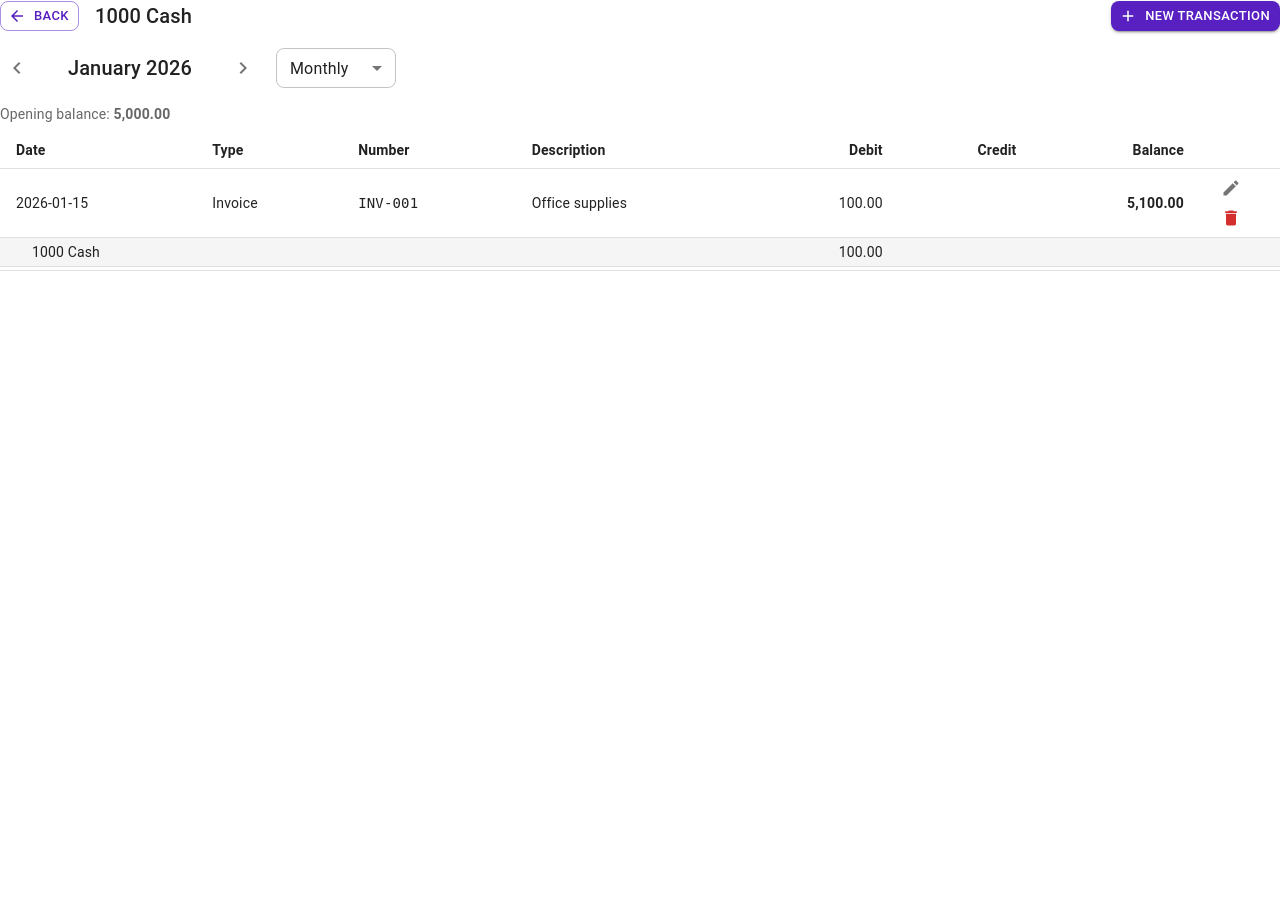
Scenario: TransactionView › shows delete confirmation dialog when row delete icon is clicked
Click the button with test id "delete-txn-txn-1". click: (1231,218)
box: top-left (1216, 203), bottom-right (1246, 233)
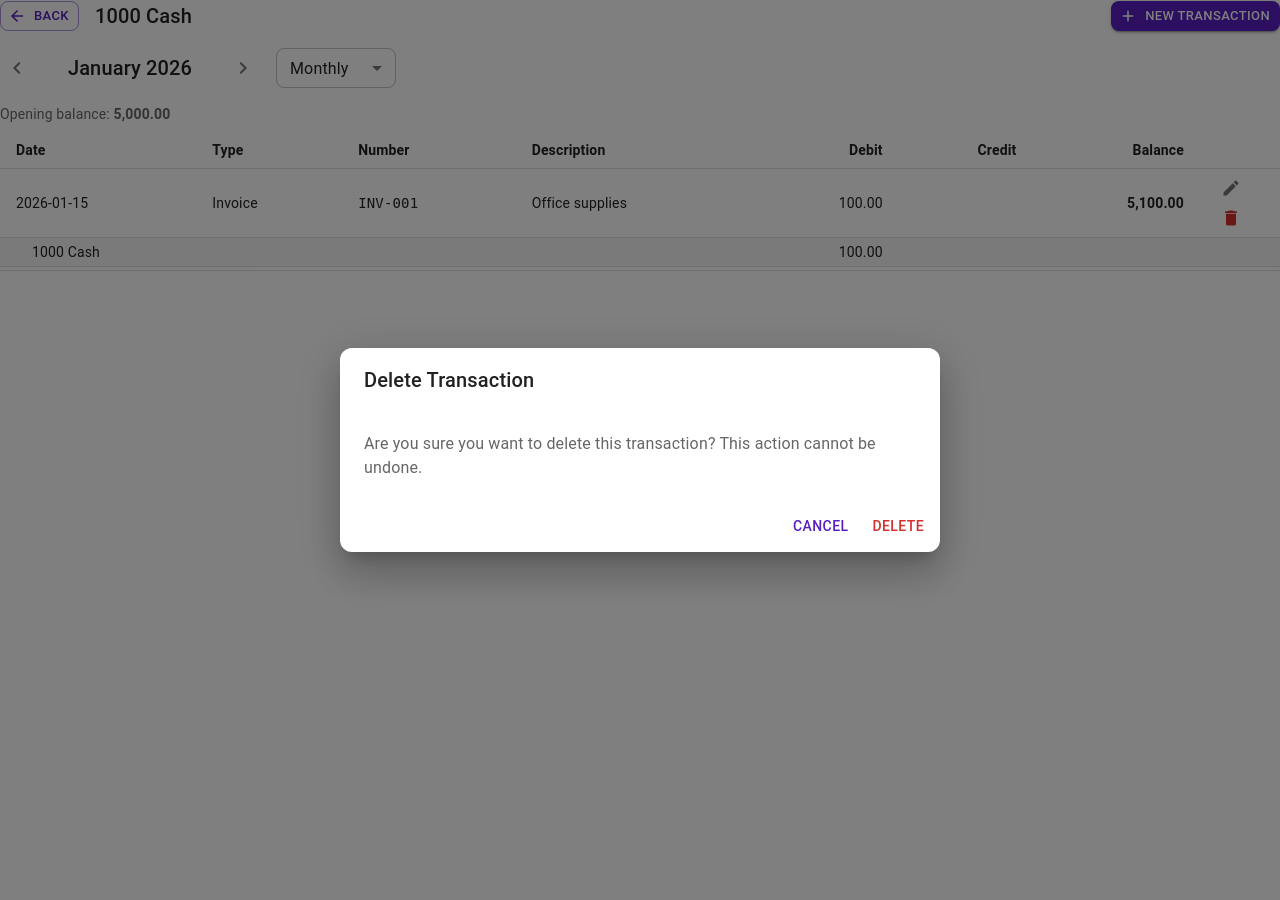
Expected: the text "Are you sure" is shown, top-left (364, 434), bottom-right (876, 477)
